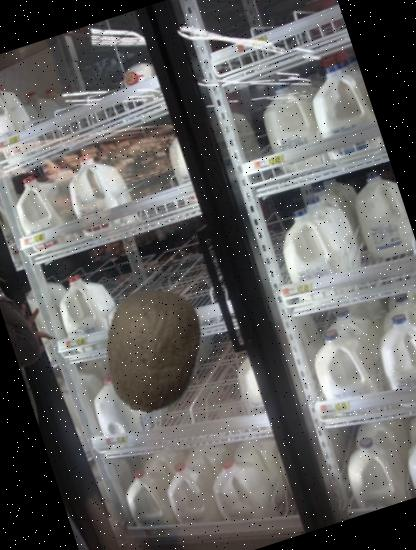Kiwi: (74, 269, 233, 428)
